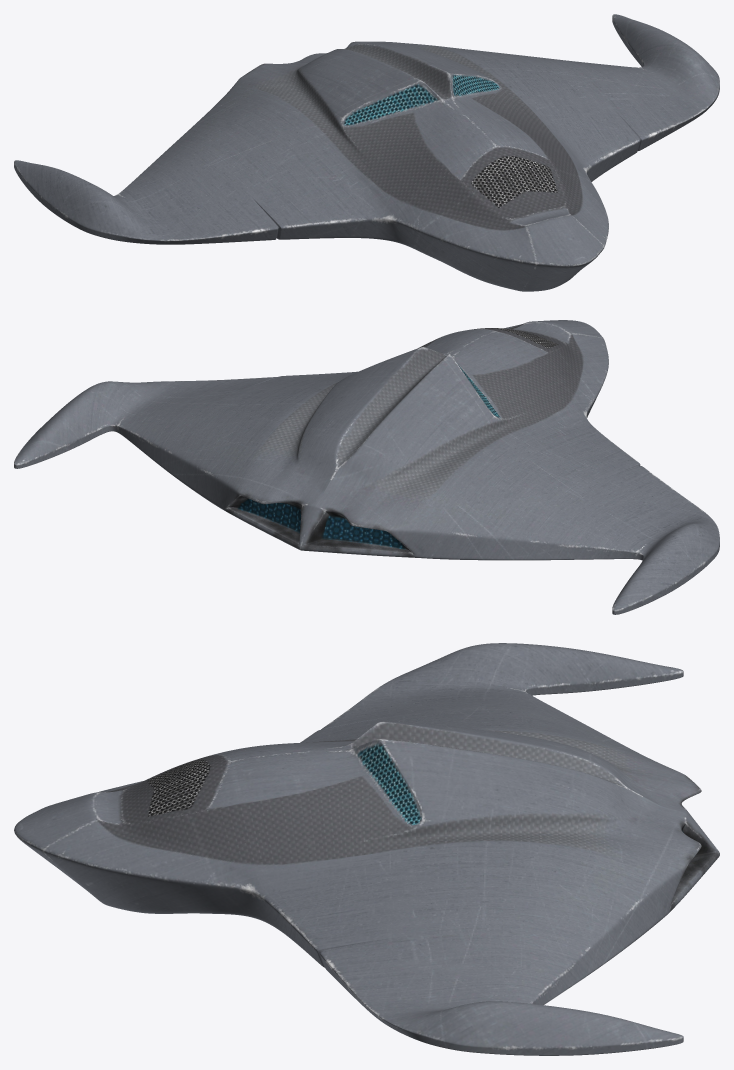
Rendered from ship.glb.
3 renders of one model, top to bottom at view 1: azimuth 30°, elevation 25°; view 2: azimuth 150°, elevation 25°; view 3: azimuth 270°, elevation 25°, orthographic. The views are drawn at different scales.
Visible parts, largest first — view 1: 13886_UFO_V1_l2; view 2: 13886_UFO_V1_l2; view 3: 13886_UFO_V1_l2.
Part boxes in pixels (x1,y1,x2,y2): 13886_UFO_V1_l2: (14, 14, 719, 291); 13886_UFO_V1_l2: (14, 320, 719, 614); 13886_UFO_V1_l2: (14, 643, 719, 1055).
Size of the model in its own units: 15.75 by 3.12 by 12.05.
1 material, 1 textured.
